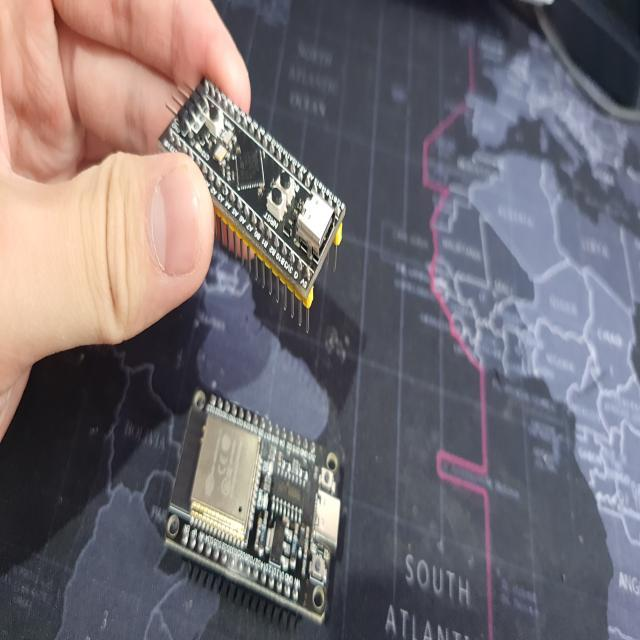ESP32: (166, 389, 344, 623)
STM32: (161, 80, 346, 308)
